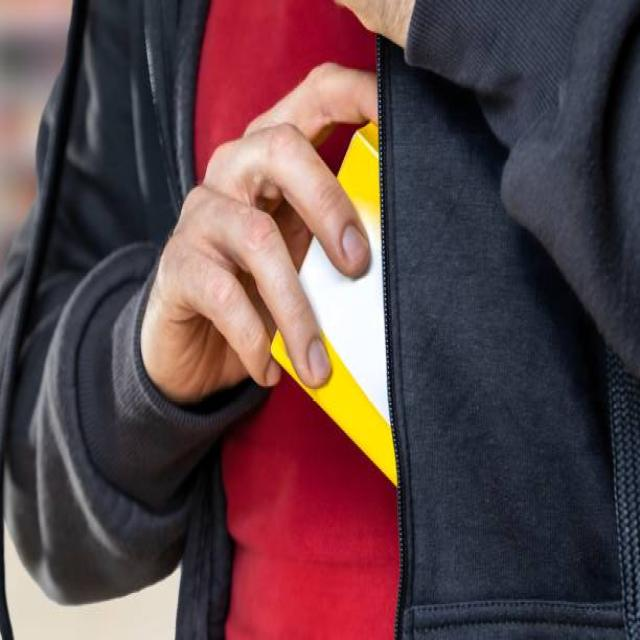article: (271, 124, 396, 483)
bags: (379, 0, 639, 638)
hands: (141, 63, 374, 400), (336, 0, 414, 47)
